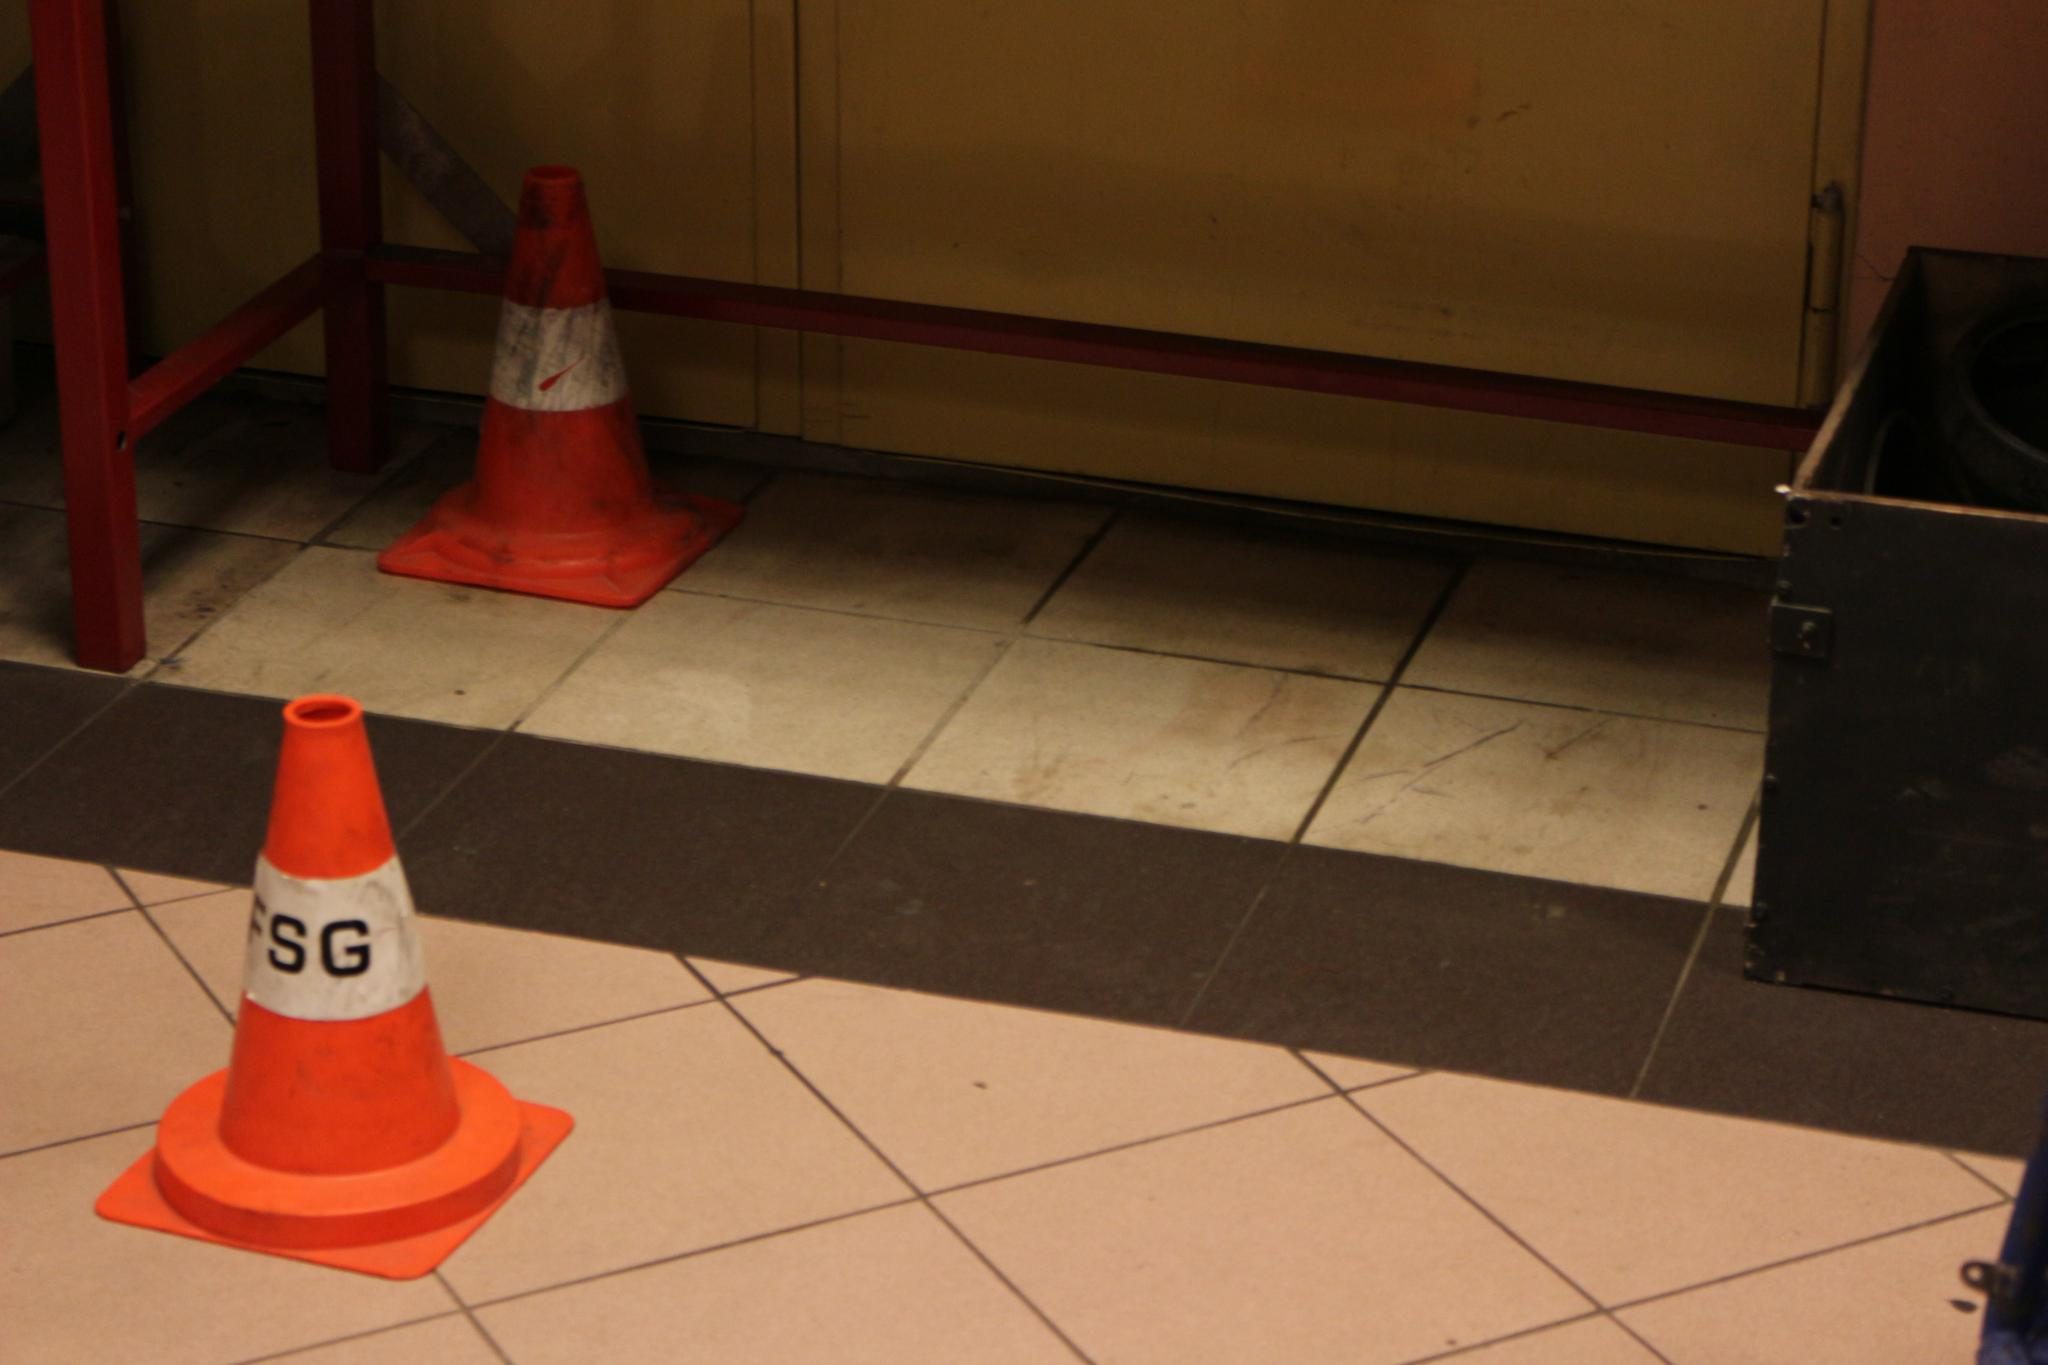Orange_Cone: (132, 681, 536, 1260), (413, 155, 707, 588)
